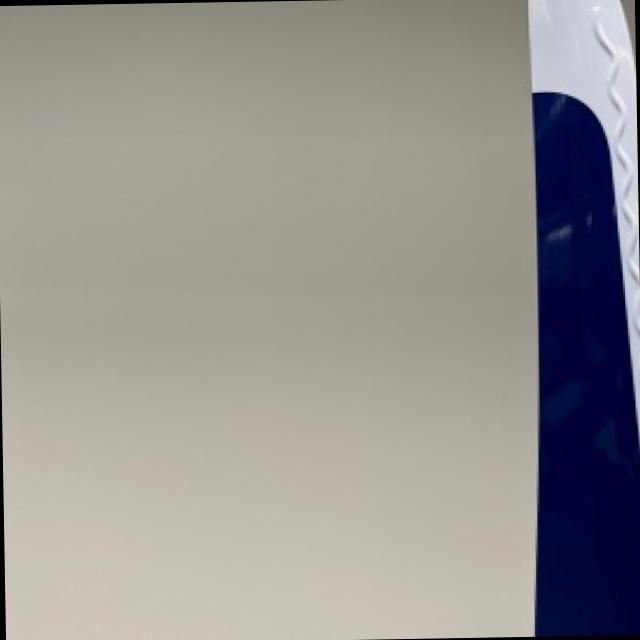healthy: (532, 0, 640, 634)
